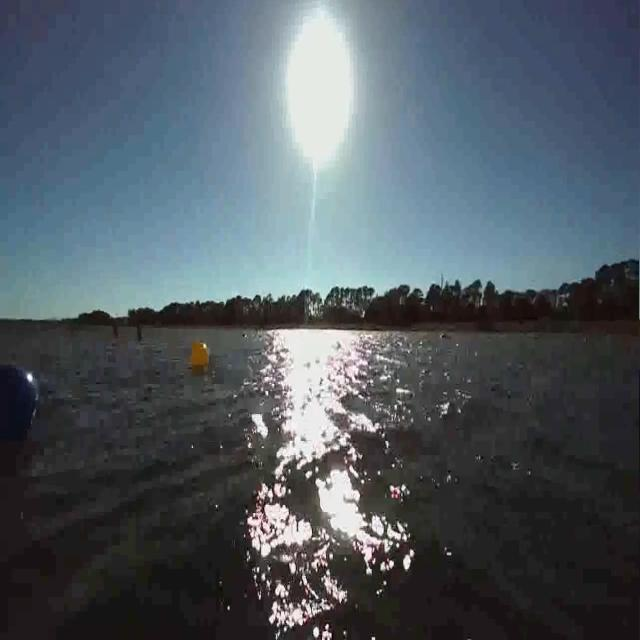blue-buoy: (0, 362, 37, 457)
yellow-buoy: (191, 338, 211, 374)
